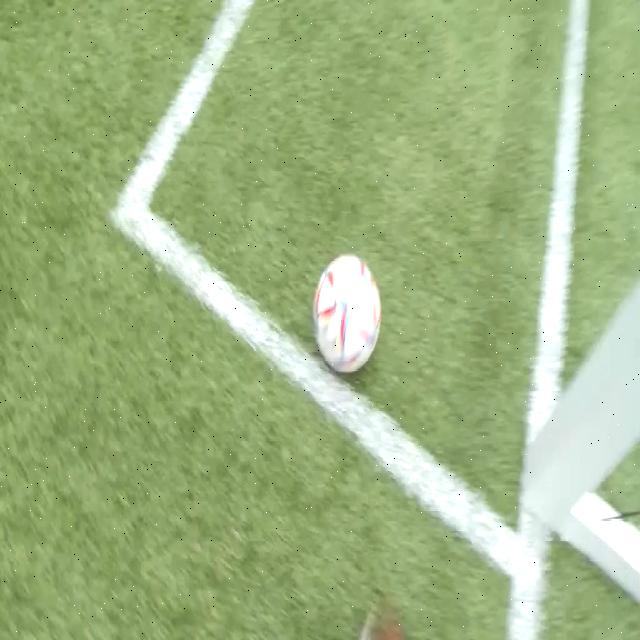ball: (314, 255, 381, 370)
goalpost: (514, 338, 638, 569)
